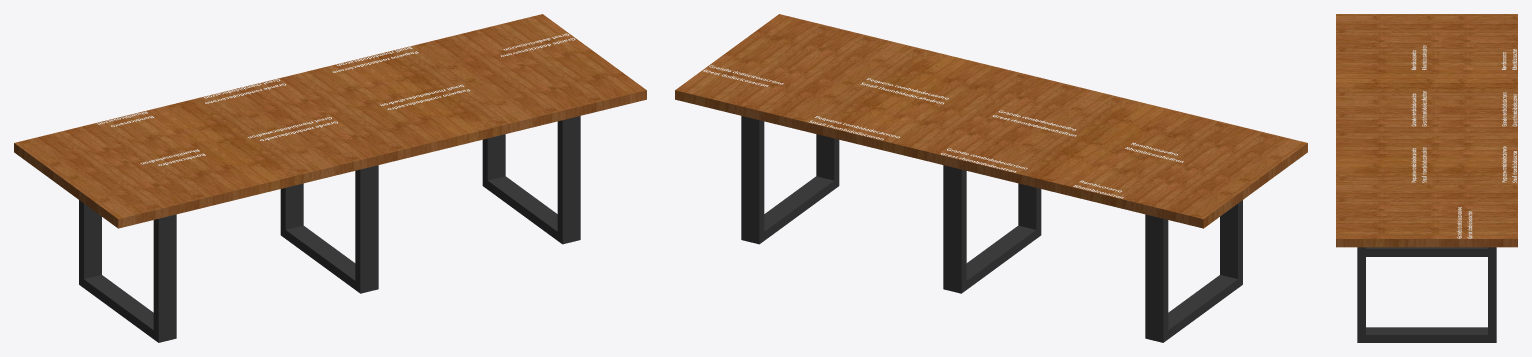
Rendered from quasiregular2.glb.
3 renders of one model, left to right at view 1: azimuth 30°, elevation 25°; view 2: azimuth 150°, elevation 25°; view 3: azimuth 270°, elevation 25°, orthographic. The views are drawn at different scales.
Parts seen in each view (by area): view 1: object 1, Composant#2 (×3); view 2: object 1, Composant#2 (×3); view 3: object 1, Composant#2 (×2), Pequeno rombidod, Grande rombidode, Grande rombidode#1, Pequeno rombidod#1, Grande dodecicos#2, Rombicosaedro Rh, Rombicosacro Rho.
Boxes of the visible parts, <box> form: object 1: <box>14,14,646,228</box>; Composant#2 (×3): <box>79,116,580,342</box>; object 1: <box>675,14,1307,228</box>; Composant#2 (×3): <box>741,116,1242,342</box>; object 1: <box>1336,14,1517,247</box>; Composant#2 (×2): <box>1357,247,1496,342</box>; Pequeno rombidod: <box>1411,147,1426,182</box>; Grande rombidode: <box>1411,91,1426,126</box>; Grande rombidode#1: <box>1502,92,1517,126</box>; Pequeno rombidod#1: <box>1502,146,1516,182</box>; Grande dodecicos#2: <box>1457,207,1472,238</box>; Rombicosaedro Rh: <box>1411,45,1426,69</box>; Rombicosacro Rho: <box>1501,49,1516,69</box>.
Bounding box in the file's own units: 2.93 × 0.771 × 1.
3 materials, 1 textured.
